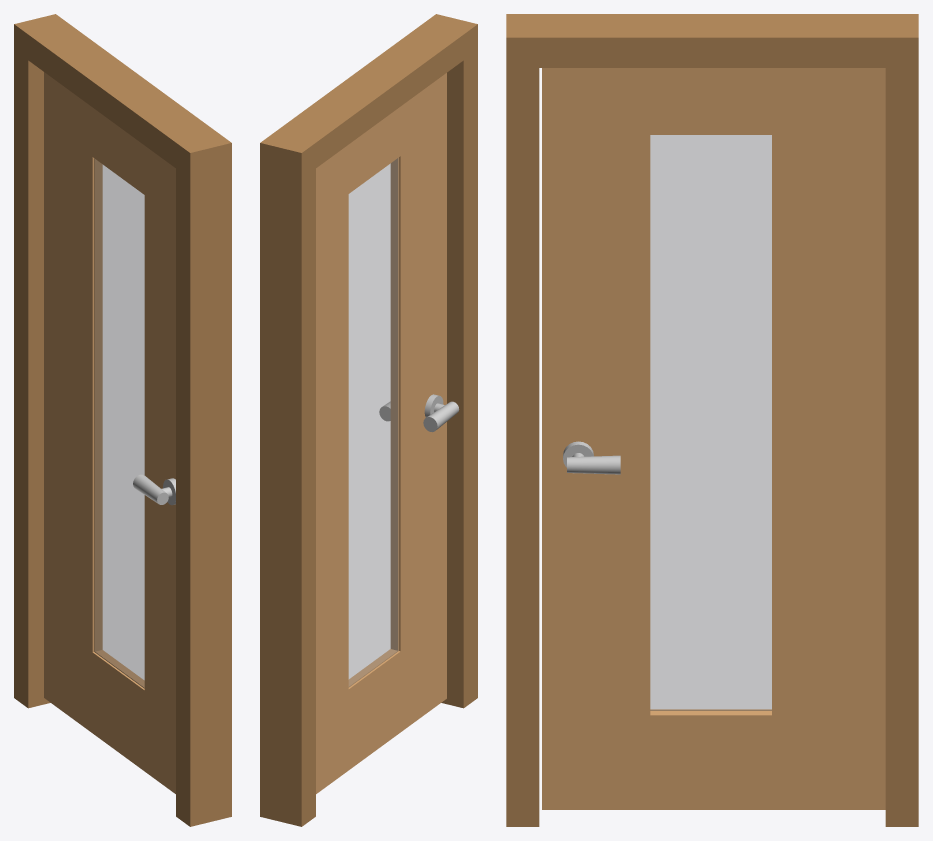
Rendered from OfficeDoor.fbx.
3 renders of one model, left to right at view 1: azimuth 30°, elevation 25°; view 2: azimuth 150°, elevation 25°; view 3: azimuth 270°, elevation 25°, orthographic. The views are drawn at different scales.
Visible parts, largest first — view 1: pCylinder5; view 2: pCylinder5; view 3: pCylinder5.
Boxes of the visible parts, bbox=[...] form: pCylinder5: bbox=[14, 14, 231, 826]; pCylinder5: bbox=[260, 14, 477, 826]; pCylinder5: bbox=[506, 14, 918, 826].
Bounding box in the file's own units: 0.5211 × 5.76 × 2.73.
